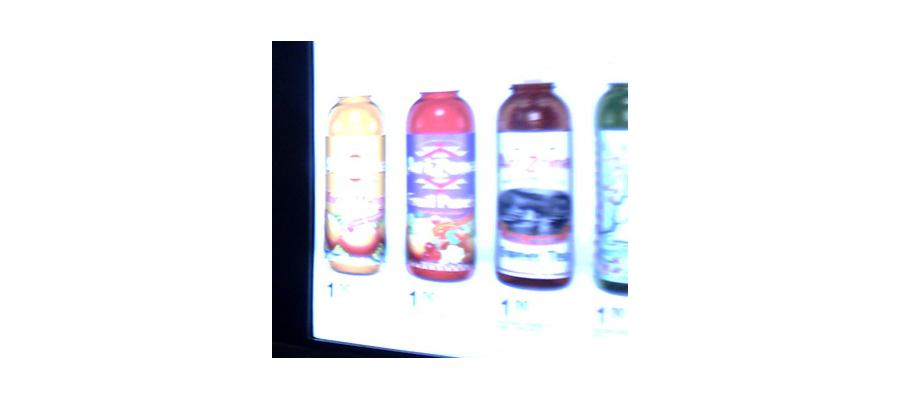bottle: (488, 87, 582, 295), (404, 86, 477, 278), (325, 89, 390, 279), (595, 85, 636, 289)
